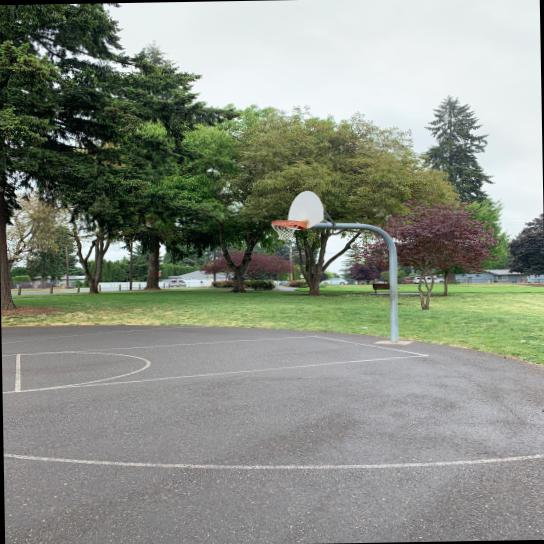basketball-hoop: (269, 219, 300, 242)
